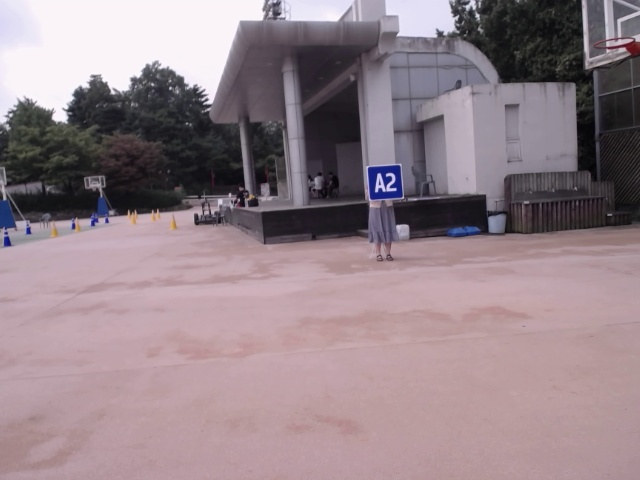delivery_a2: (367, 164, 404, 201)
